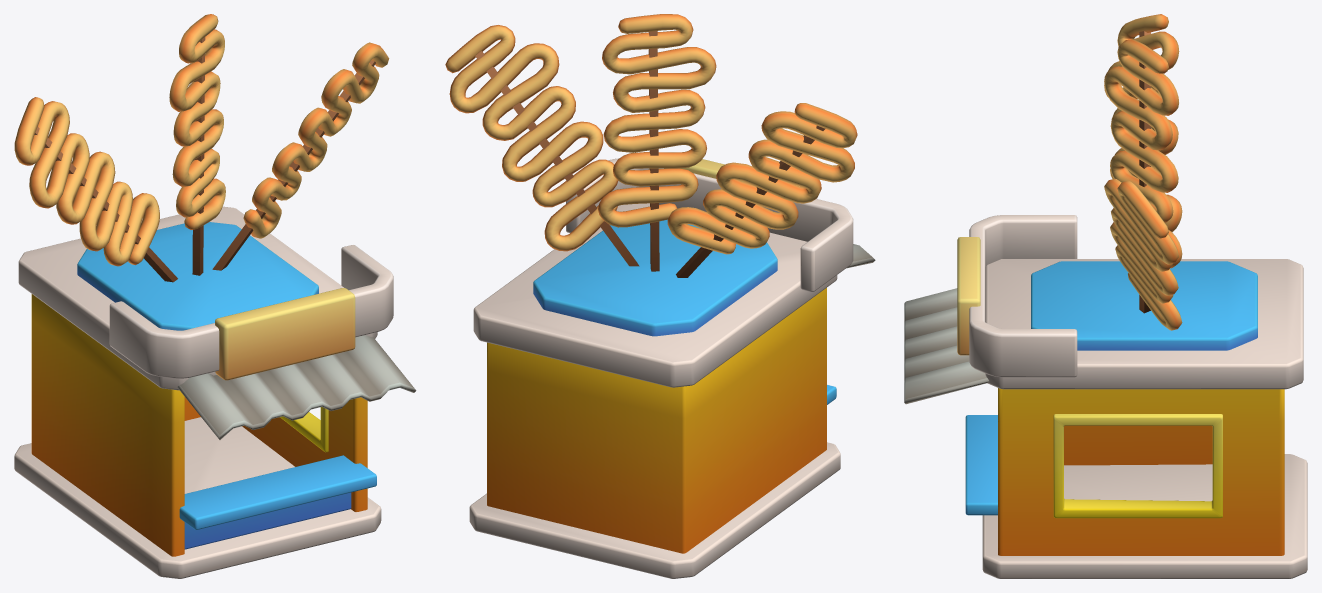
Rendered from lpb_store_isaw.fbx.
3 renders of one model, left to right at view 1: azimuth 30°, elevation 25°; view 2: azimuth 150°, elevation 25°; view 3: azimuth 270°, elevation 25°, orthographic.
Parts seen in each view (by area): view 1: Store.012; view 2: Store.012; view 3: Store.012.
Boxes of the visible parts, x1,y1,x2,y2 form: Store.012: [14, 14, 416, 578]; Store.012: [445, 14, 875, 578]; Store.012: [904, 14, 1307, 578].
Bounding box in the file's own units: 561 × 656 × 500.
